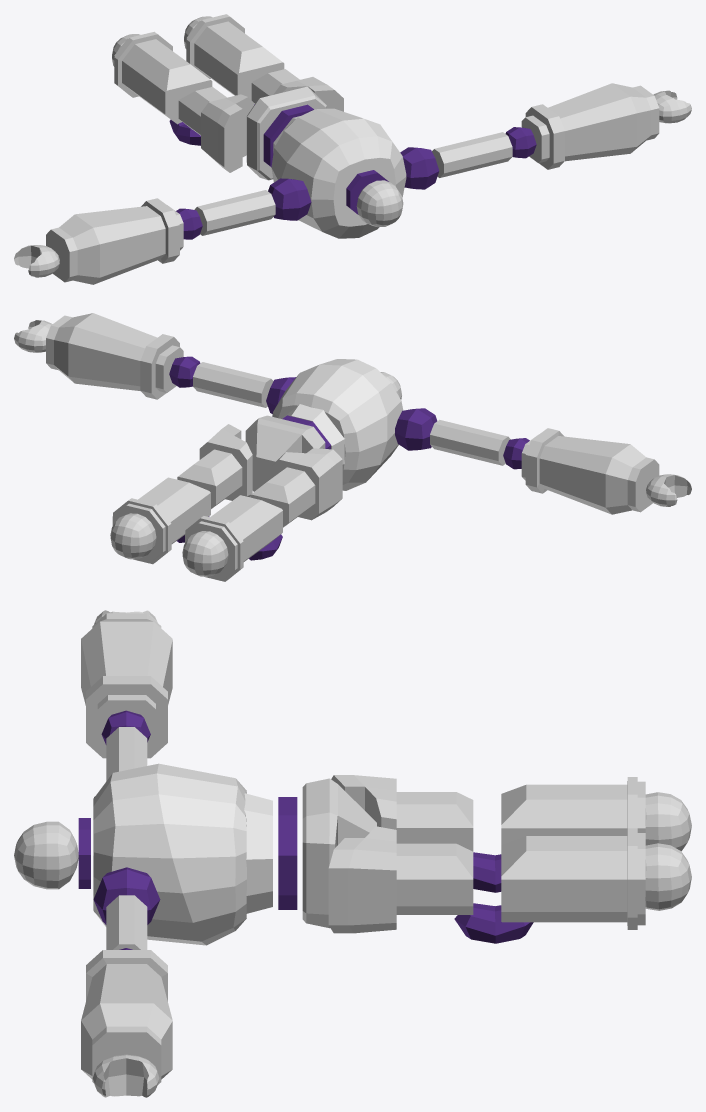
Rendered from Novo Robô - deitado.fbx.
The picture shows the model from 3 angles, top to bottom: view 1: azimuth 30°, elevation 25°; view 2: azimuth 150°, elevation 25°; view 3: azimuth 270°, elevation 25°; orthographic projection. The views are drawn at different scales.
Visible parts, largest first — view 1: Peito, Antebraço Direito, Antebraço Esquerdo, Canela Direita, Canela Esquerda, hipebone Direito, Quadril, Braço Esquerdo, Braço Direito, Cabeça, Ombro direito, ombro esquerdo (+10 smaller); view 2: Peito, Antebraço Direito, Antebraço Esquerdo, Canela Direita, Canela Esquerda, Quadril, hipebone Direito, Braço Esquerdo, Braço Direito, Coxa Direita, Coxa Esquerda, Pé Esquerdo (+8 smaller); view 3: Peito, Canela Esquerda, Antebraço Direito, Antebraço Esquerdo, Canela Direita, Hipbone Esquerdo, Quadril, Coxa Esquerda, Coxa Direita, Cabeça, Pé Esquerdo, Mão Esquerda (+10 smaller).
Part boxes in pixels (<box>): Peito: <box>271,108,406,238</box>; Antebraço Direito: <box>46,198,183,284</box>; Antebraço Esquerdo: <box>521,83,659,169</box>; Canela Direita: <box>114,31,212,124</box>; Canela Esquerda: <box>186,14,284,104</box>; hipebone Direito: <box>201,94,253,172</box>; Quadril: <box>246,86,326,180</box>; Braço Esquerdo: <box>432,132,512,177</box>; Braço Direito: <box>194,190,275,235</box>; Cabeça: <box>356,180,403,227</box>; Ombro direito: <box>268,178,311,220</box>; ombro esquerdo: <box>400,147,439,189</box>; Peito: <box>272,359,403,490</box>; Antebraço Direito: <box>521,428,659,514</box>; Antebraço Esquerdo: <box>46,313,183,399</box>; Canela Direita: <box>185,495,282,581</box>; Canela Esquerda: <box>112,477,210,564</box>; Quadril: <box>245,415,325,491</box>; hipebone Direito: <box>271,448,342,520</box>; Braço Esquerdo: <box>193,362,273,407</box>; Braço Direito: <box>430,419,510,465</box>; Coxa Direita: <box>250,467,315,527</box>; Coxa Esquerda: <box>177,449,242,508</box>; Pé Esquerdo: <box>110,513,156,559</box>; Peito: <box>93,763,272,945</box>; Canela Esquerda: <box>501,828,645,929</box>; Antebraço Direito: <box>81,613,172,758</box>; Antebraço Esquerdo: <box>81,950,172,1085</box>; Canela Direita: <box>501,777,645,844</box>; Hipbone Esquerdo: <box>328,826,396,933</box>; Quadril: <box>302,778,376,928</box>; Coxa Esquerda: <box>396,843,473,914</box>; Coxa Direita: <box>396,792,473,851</box>; Cabeça: <box>14,821,78,889</box>; Pé Esquerdo: <box>645,843,691,910</box>; Mão Esquerda: <box>92,1054,159,1097</box>.
Bounding box in the file's own units: 460 × 73.85 × 280.
